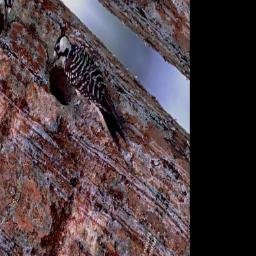Woodpecker: (45, 26, 138, 153)
